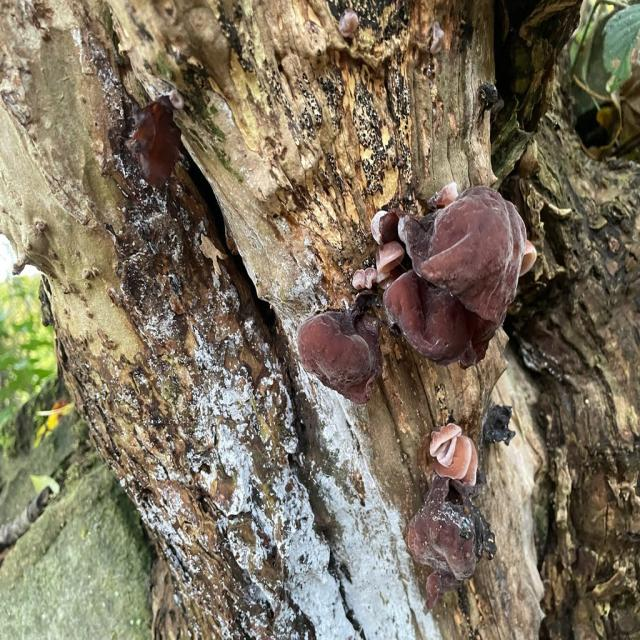Matang: (370, 182, 534, 362), (395, 414, 505, 615), (294, 299, 390, 400), (121, 88, 195, 184)
